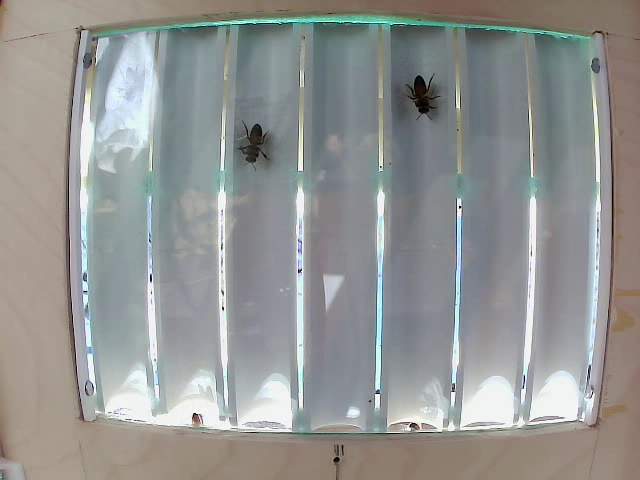bee: (392, 59, 440, 141), (231, 120, 288, 169)
